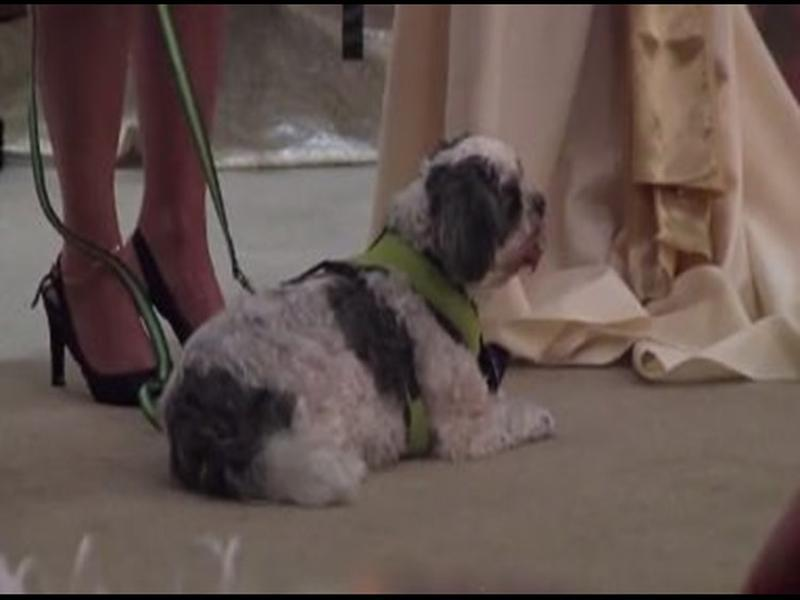dog_down: (160, 125, 564, 510)
